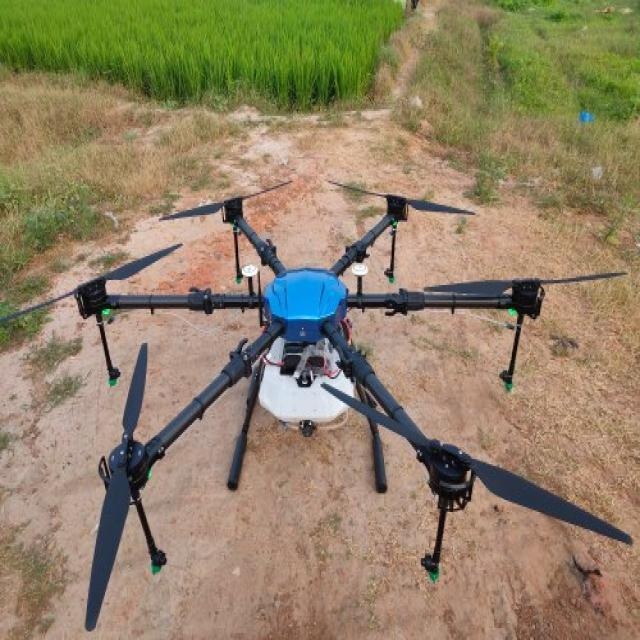drone: (0, 155, 598, 616)
